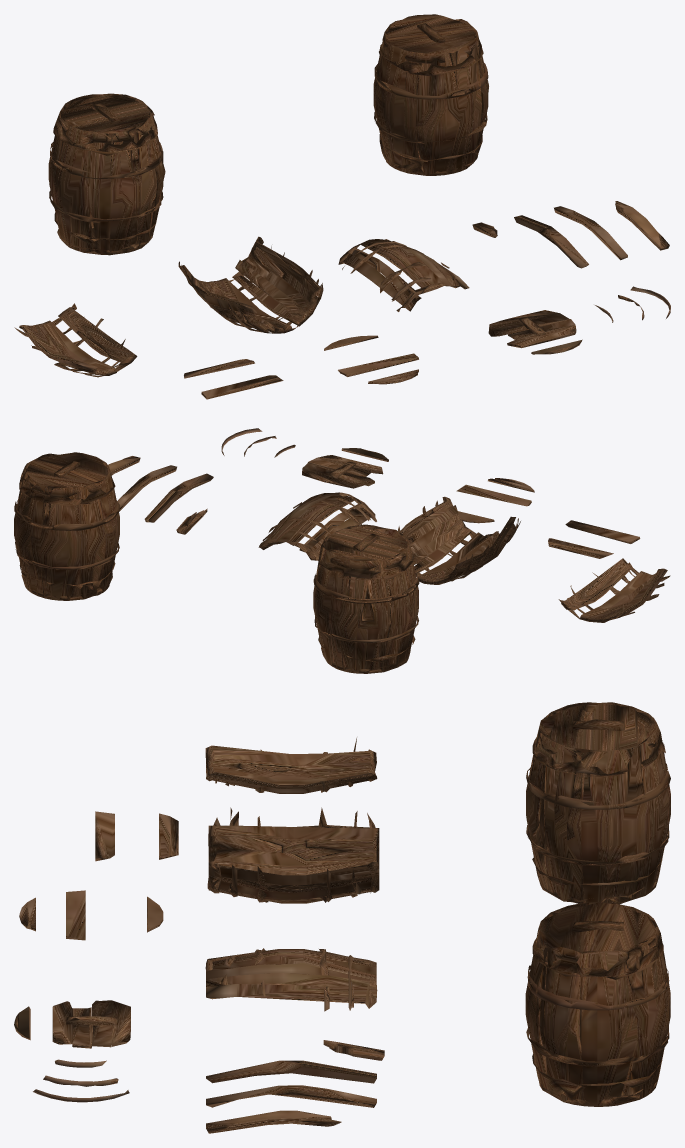
The model's file is wooden_barrels_01_lod2.glb.
3 views of the same model, one above another, from view 1: azimuth 30°, elevation 25°; view 2: azimuth 150°, elevation 25°; view 3: azimuth 270°, elevation 25° (orthographic). The views are drawn at different scales.
Visible parts, largest first — view 1: wooden_barrels_01_barrel02, wooden_barrels_01_barrel01, wooden_barrels_01_piece01, wooden_barrels_01_piece03, wooden_barrels_01_piece02, wooden_barrels_01_piece08, wooden_barrels_01_piece04, wooden_barrels_01_piece05, wooden_barrels_01_piece06, wooden_barrels_01_piece14, wooden_barrels_01_piece11; view 2: wooden_barrels_01_barrel02, wooden_barrels_01_barrel01, wooden_barrels_01_piece01, wooden_barrels_01_piece03, wooden_barrels_01_piece02, wooden_barrels_01_piece08, wooden_barrels_01_piece04, wooden_barrels_01_piece05, wooden_barrels_01_piece14, wooden_barrels_01_piece11, wooden_barrels_01_piece13; view 3: wooden_barrels_01_barrel01, wooden_barrels_01_barrel02, wooden_barrels_01_piece01, wooden_barrels_01_piece03, wooden_barrels_01_piece02, wooden_barrels_01_piece08, wooden_barrels_01_piece04, wooden_barrels_01_piece05, wooden_barrels_01_piece06, wooden_barrels_01_piece11, wooden_barrels_01_piece14, wooden_barrels_01_piece13 (+1 smaller).
Part boxes in pixels (x1,y1,x2,y2): wooden_barrels_01_barrel02: [48, 93, 165, 255]; wooden_barrels_01_barrel01: [373, 14, 488, 175]; wooden_barrels_01_piece01: [178, 236, 323, 333]; wooden_barrels_01_piece03: [338, 239, 469, 311]; wooden_barrels_01_piece02: [14, 303, 137, 377]; wooden_barrels_01_piece08: [488, 310, 576, 348]; wooden_barrels_01_piece04: [514, 215, 588, 268]; wooden_barrels_01_piece05: [554, 206, 627, 260]; wooden_barrels_01_piece06: [615, 201, 669, 250]; wooden_barrels_01_piece14: [201, 375, 283, 399]; wooden_barrels_01_piece11: [338, 353, 418, 376]; wooden_barrels_01_barrel02: [313, 524, 419, 673]; wooden_barrels_01_barrel01: [14, 452, 119, 600]; wooden_barrels_01_piece01: [398, 496, 520, 584]; wooden_barrels_01_piece03: [258, 492, 376, 560]; wooden_barrels_01_piece02: [558, 558, 670, 622]; wooden_barrels_01_piece08: [302, 455, 383, 488]; wooden_barrels_01_piece04: [144, 473, 213, 522]; wooden_barrels_01_piece05: [117, 465, 176, 511]; wooden_barrels_01_piece14: [565, 520, 640, 543]; wooden_barrels_01_piece11: [456, 484, 531, 506]; wooden_barrels_01_piece13: [548, 538, 613, 558]; wooden_barrels_01_barrel01: [525, 902, 670, 1106]; wooden_barrels_01_barrel02: [526, 702, 670, 904]; wooden_barrels_01_piece01: [207, 807, 379, 903]; wooden_barrels_01_piece03: [205, 948, 377, 1011]; wooden_barrels_01_piece02: [205, 738, 377, 793]; wooden_barrels_01_piece08: [52, 1000, 130, 1048]; wooden_barrels_01_piece04: [206, 1060, 376, 1083]; wooden_barrels_01_piece05: [206, 1085, 376, 1107]; wooden_barrels_01_piece06: [206, 1110, 341, 1133]; wooden_barrels_01_piece11: [66, 890, 85, 940]; wooden_barrels_01_piece14: [95, 811, 114, 861]; wooden_barrels_01_piece13: [159, 813, 178, 859].
Size of the model in its own units: 4.44 by 0.9499 by 3.34.
3 materials, 3 textured.
